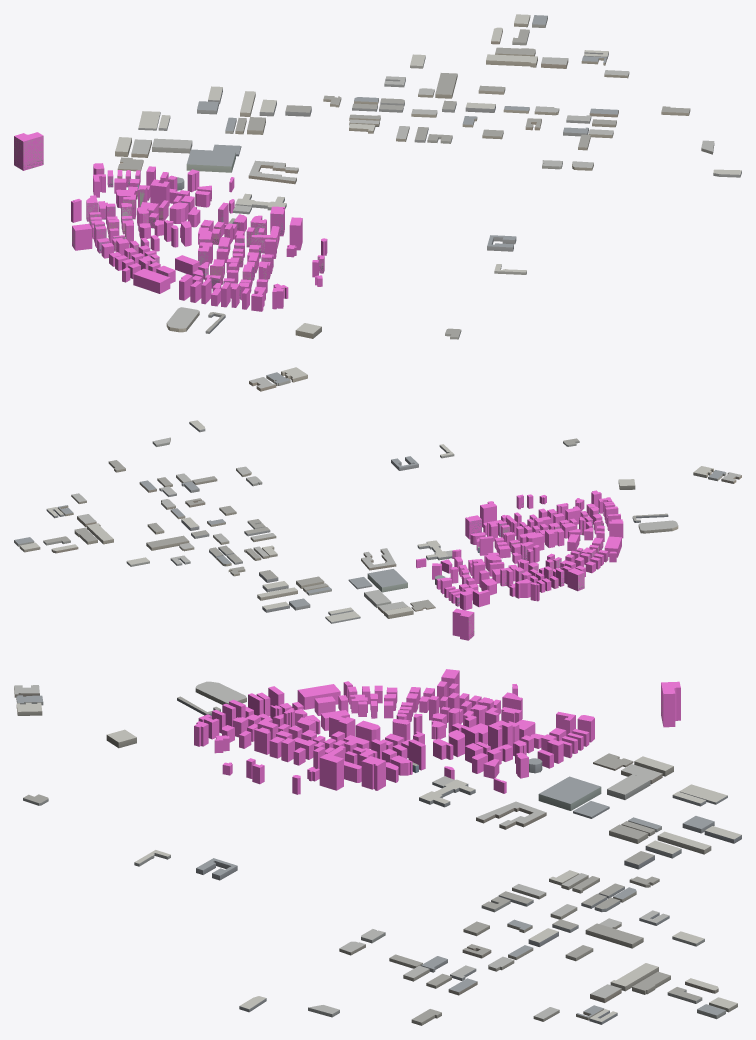
File: bld_9_4.fbx
The picture shows the model from 3 angles, top to bottom: view 1: azimuth 30°, elevation 25°; view 2: azimuth 150°, elevation 25°; view 3: azimuth 270°, elevation 25°; orthographic projection. The views are drawn at different scales.
Visible parts, largest first — view 1: bld_9_4_LOD0, bld_9_4_COL; view 2: bld_9_4_COL, bld_9_4_LOD0; view 3: bld_9_4_COL, bld_9_4_LOD0.
Boxes of the visible parts, x1,y1,x2,y2 form: bld_9_4_LOD0: [14, 14, 741, 391]; bld_9_4_COL: [14, 132, 327, 311]; bld_9_4_COL: [416, 490, 623, 640]; bld_9_4_LOD0: [14, 420, 741, 638]; bld_9_4_COL: [194, 669, 680, 794]; bld_9_4_LOD0: [14, 681, 741, 1025].
Size of what is drawn, in the model's own units: 2085 by 94.86 by 1886.
